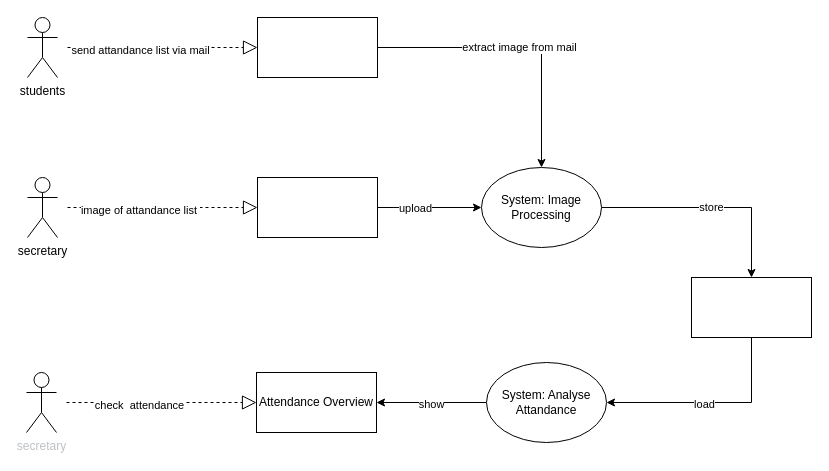
Image size: 829x471. Some labels were removed from this diagram. The shapes that lost their labels are listed below. From the top down, each one's centre as x and y in pixels, then its label:
At point (317, 47): "List as E-Mail attachment".
At point (317, 207): "List as image file".
At point (751, 307): "Database".
